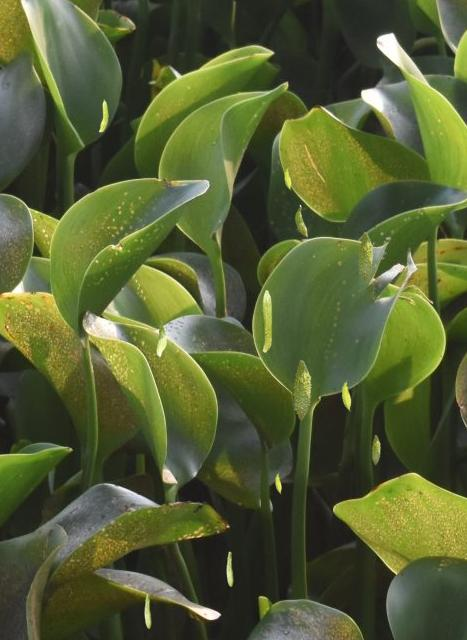ampalaya: (292, 359, 312, 420), (357, 231, 374, 282), (262, 289, 272, 352), (294, 204, 308, 237), (156, 316, 167, 357), (98, 99, 108, 132), (341, 379, 351, 411), (371, 434, 381, 465), (144, 593, 151, 629), (226, 551, 233, 587), (284, 166, 291, 190), (275, 472, 281, 494)
